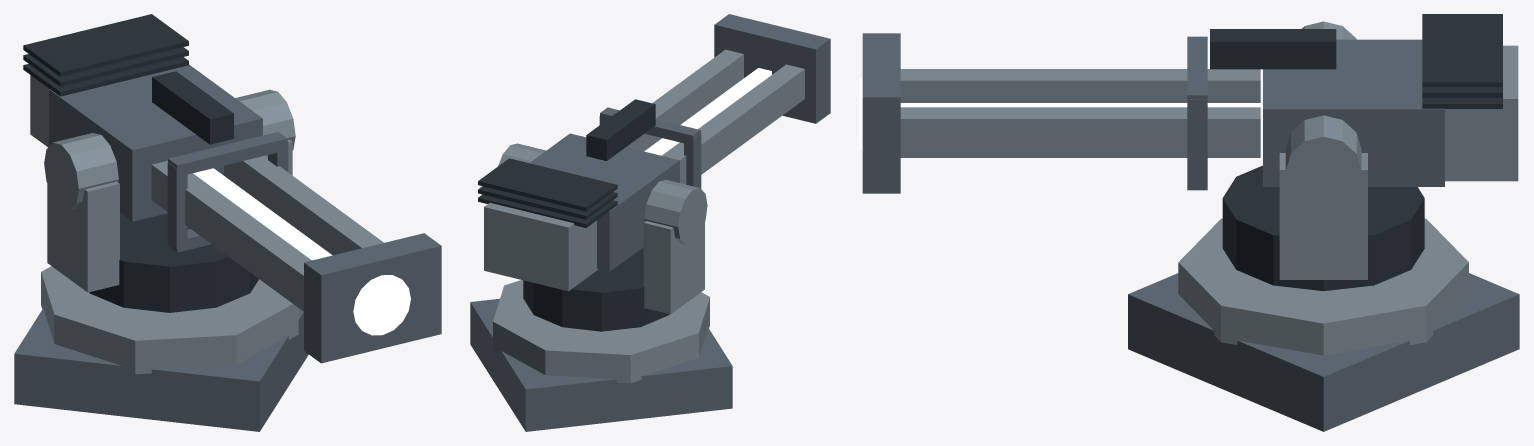
File: lancer_t1_d0.meshopt.glb
3 renders of one model, left to right at view 1: azimuth 30°, elevation 25°; view 2: azimuth 150°, elevation 25°; view 3: azimuth 270°, elevation 25°, orthographic. The views are drawn at different scales.
Parts seen in each view (by area): view 1: RECOIL_ARMOR_GEOMETRY, BASE_ARMOR_GEOMETRY, YAW_ARMOR_GEOMETRY, RECOIL_SIGNAL_GEOMETRY; view 2: RECOIL_ARMOR_GEOMETRY, BASE_ARMOR_GEOMETRY, YAW_ARMOR_GEOMETRY, RECOIL_SIGNAL_GEOMETRY; view 3: RECOIL_ARMOR_GEOMETRY, BASE_ARMOR_GEOMETRY, YAW_ARMOR_GEOMETRY, RECOIL_SIGNAL_GEOMETRY.
Part boxes in pixels (bbox=[...]): RECOIL_ARMOR_GEOMETRY: bbox=[23, 14, 441, 363]; BASE_ARMOR_GEOMETRY: bbox=[14, 266, 308, 431]; YAW_ARMOR_GEOMETRY: bbox=[47, 139, 292, 312]; RECOIL_SIGNAL_GEOMETRY: bbox=[193, 168, 410, 335]; RECOIL_ARMOR_GEOMETRY: bbox=[478, 14, 830, 291]; BASE_ARMOR_GEOMETRY: bbox=[470, 280, 732, 431]; YAW_ARMOR_GEOMETRY: bbox=[523, 221, 704, 331]; RECOIL_SIGNAL_GEOMETRY: bbox=[644, 68, 771, 155]; RECOIL_ARMOR_GEOMETRY: bbox=[862, 14, 1518, 205]; BASE_ARMOR_GEOMETRY: bbox=[1128, 218, 1519, 431]; YAW_ARMOR_GEOMETRY: bbox=[1222, 153, 1424, 291]; RECOIL_SIGNAL_GEOMETRY: bbox=[859, 78, 1260, 148].
Size of the model in its own units: 1.55 by 1.37 by 2.61.
